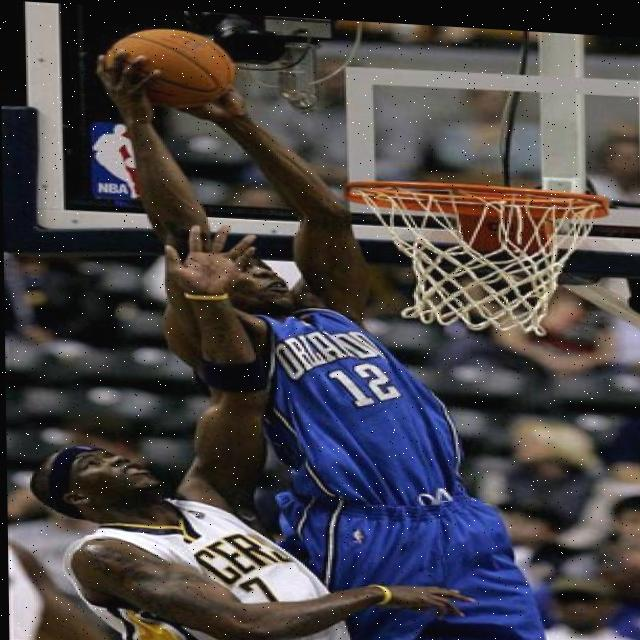hoop: (315, 140, 621, 374)
